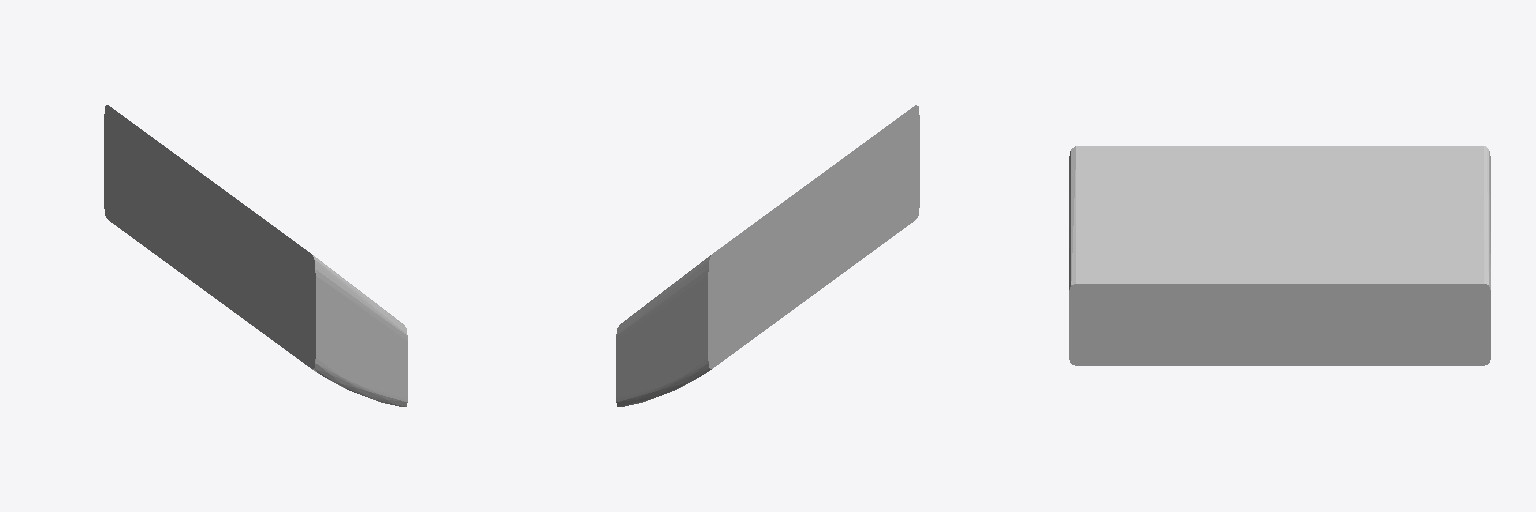
The model's file is Cylinder_with_Hole_collision_12.obj.
The picture shows the model from 3 angles: view 1: azimuth 30°, elevation 25°; view 2: azimuth 150°, elevation 25°; view 3: azimuth 270°, elevation 25°; orthographic projection.
Bounding box in the file's own units: 35.92 × 65.39 × 143.